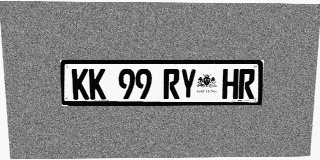9: (118, 69, 135, 99), (135, 69, 152, 99)
H: (222, 69, 239, 99)
K: (72, 69, 89, 99), (89, 69, 106, 99)
R: (163, 69, 180, 99), (238, 69, 255, 99)
Y: (180, 69, 196, 99)
